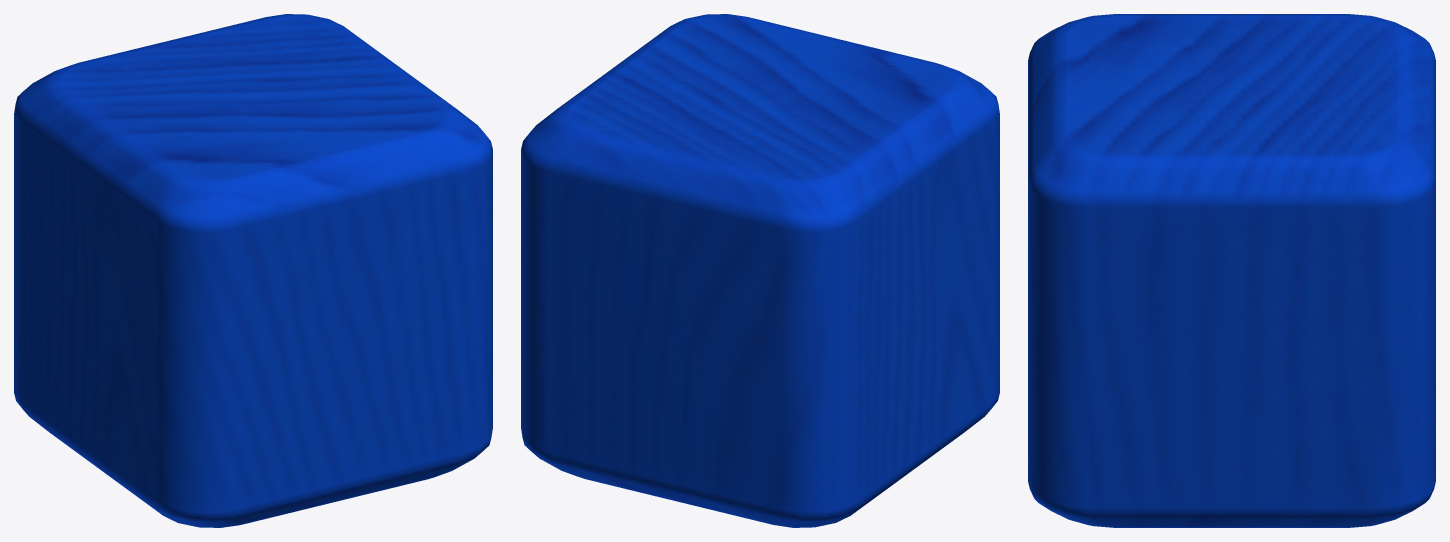
The model's file is Block_01.fbx.
The picture shows the model from 3 angles, left to right: view 1: azimuth 30°, elevation 25°; view 2: azimuth 150°, elevation 25°; view 3: azimuth 270°, elevation 25°; orthographic projection. The views are drawn at different scales.
Visible parts, largest first — view 1: Block_01; view 2: Block_01; view 3: Block_01.
Part boxes in pixels (<box>): Block_01: <box>14,14,492,527</box>; Block_01: <box>521,14,999,527</box>; Block_01: <box>1028,14,1435,527</box>.
Size of the model in its own units: 1 by 1 by 1.
1 material, 1 textured.
